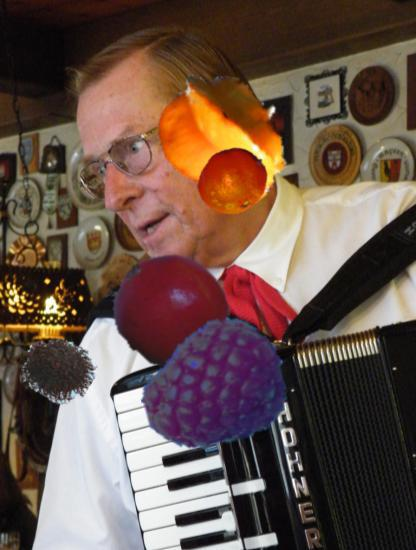Carambula: (151, 65, 297, 211)
Clementine: (196, 144, 270, 218)
Pomegranate: (109, 249, 238, 378)
Rambutan: (19, 330, 95, 406)
Raspberry: (139, 310, 286, 457)
